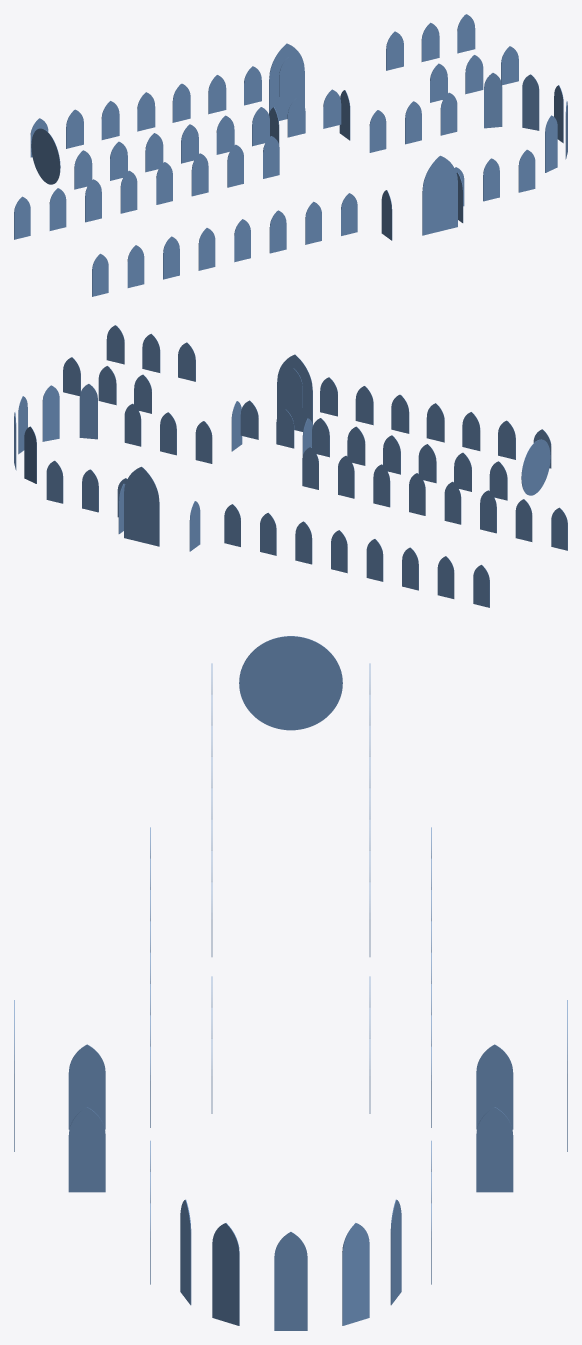
Rendered from SM_Castle_Glass.fbx.
The picture shows the model from 3 angles, top to bottom: view 1: azimuth 30°, elevation 25°; view 2: azimuth 150°, elevation 25°; view 3: azimuth 270°, elevation 25°; orthographic projection. The views are drawn at different scales.
Visible parts, largest first — view 1: SM_Glass_South_ComplexPolar, SM_Glass_North_Trigonometry, SM_Glass_00_RoseWindow_UnitCircle, SM_Glass_16_Degenerate, SM_Glass_15_Hyperbola, SM_Glass_12_Circle, SM_Glass_11_Matrices_S, SM_Glass_02_DomainRange_S, SM_Glass_09_TrigIdentities_N, SM_Glass_02_DomainRange_N, SM_Glass_04_Polynomials_S, SM_Glass_06_Exponentials_S (+39 smaller); view 2: SM_Glass_North_Trigonometry, SM_Glass_South_ComplexPolar, SM_Glass_00_RoseWindow_UnitCircle, SM_Glass_12_Circle, SM_Glass_13_Ellipse, SM_Glass_16_Degenerate, SM_Glass_11_Matrices_N, SM_Glass_02_DomainRange_N, SM_Glass_09_TrigIdentities_S, SM_Glass_02_DomainRange_S, SM_Glass_04_Polynomials_N, SM_Glass_06_Exponentials_N (+39 smaller); view 3: SM_Glass_00_RoseWindow_UnitCircle, SM_Glass_14_Parabola, SM_Glass_North_Trigonometry_SideE, SM_Glass_South_ComplexPolar_SideE, SM_Glass_13_Ellipse, SM_Glass_15_Hyperbola, SM_Glass_North_Trigonometry_SideW, SM_Glass_South_ComplexPolar_SideW, SM_Glass_12_Circle, SM_Glass_16_Degenerate.
Part boxes in pixels (x1,y1,x2,y2): SM_Glass_South_ComplexPolar: (422, 155, 457, 235); SM_Glass_North_Trigonometry: (269, 43, 304, 120); SM_Glass_00_RoseWindow_UnitCircle: (31, 128, 60, 184); SM_Glass_16_Degenerate: (484, 73, 502, 128); SM_Glass_15_Hyperbola: (522, 74, 539, 130); SM_Glass_12_Circle: (545, 115, 557, 172); SM_Glass_11_Matrices_S: (518, 149, 535, 192); SM_Glass_02_DomainRange_S: (127, 245, 144, 287); SM_Glass_09_TrigIdentities_N: (369, 110, 386, 152); SM_Glass_02_DomainRange_N: (49, 188, 66, 230); SM_Glass_04_Polynomials_S: (198, 228, 215, 270); SM_Glass_06_Exponentials_S: (269, 210, 286, 253); SM_Glass_North_Trigonometry: (124, 466, 159, 546); SM_Glass_South_ComplexPolar: (277, 354, 312, 431); SM_Glass_00_RoseWindow_UnitCircle: (521, 439, 550, 495); SM_Glass_12_Circle: (79, 384, 97, 439); SM_Glass_13_Ellipse: (42, 385, 59, 441); SM_Glass_16_Degenerate: (24, 426, 36, 483); SM_Glass_11_Matrices_N: (46, 460, 63, 503); SM_Glass_02_DomainRange_N: (437, 556, 454, 598); SM_Glass_09_TrigIdentities_S: (195, 421, 212, 463); SM_Glass_02_DomainRange_S: (515, 499, 532, 541); SM_Glass_04_Polynomials_N: (366, 539, 383, 581); SM_Glass_06_Exponentials_N: (295, 521, 312, 564); SM_Glass_00_RoseWindow_UnitCircle: (239, 636, 342, 730); SM_Glass_14_Parabola: (274, 1232, 307, 1330); SM_Glass_North_Trigonometry_SideE: (476, 1107, 513, 1192); SM_Glass_South_ComplexPolar_SideE: (68, 1107, 105, 1192); SM_Glass_13_Ellipse: (212, 1223, 239, 1325); SM_Glass_15_Hyperbola: (342, 1223, 369, 1325); SM_Glass_North_Trigonometry_SideW: (476, 1044, 513, 1129); SM_Glass_South_ComplexPolar_SideW: (68, 1044, 105, 1129); SM_Glass_12_Circle: (180, 1199, 191, 1305); SM_Glass_16_Degenerate: (390, 1199, 401, 1305).
Size of the model in its own units: 8662 by 2250 by 4486.
